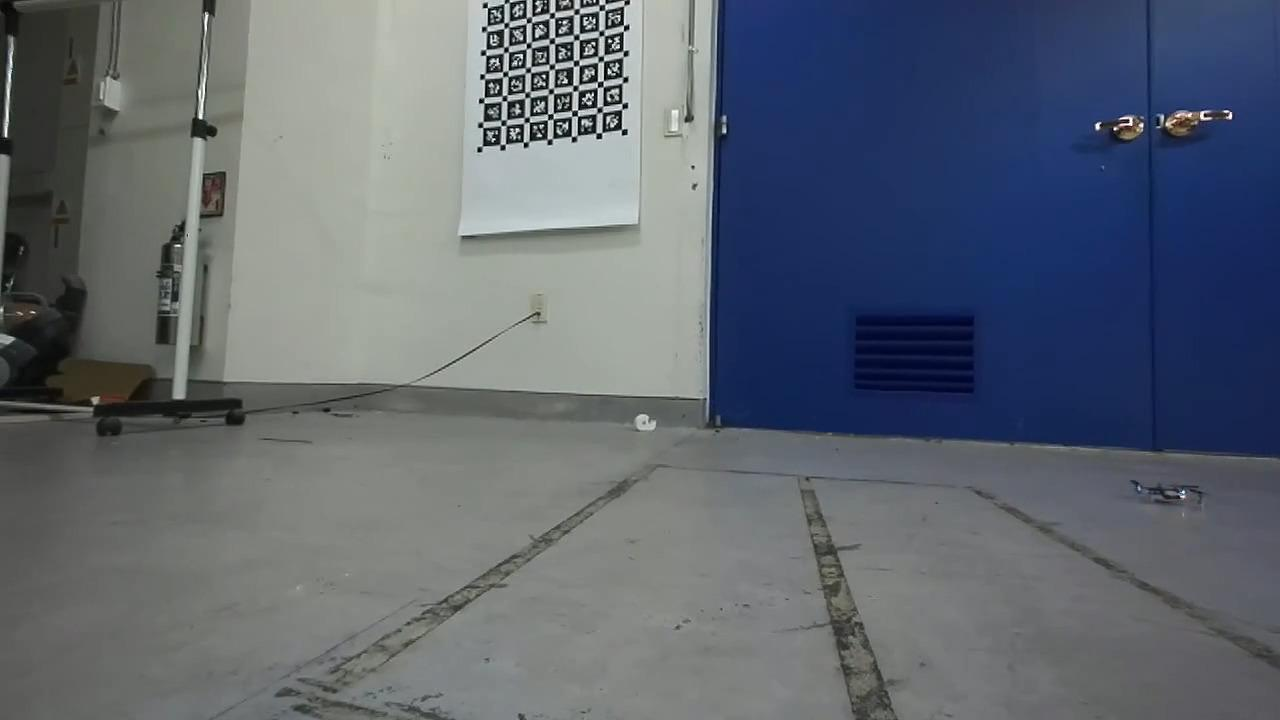crazyflie: (1125, 474, 1201, 508)
